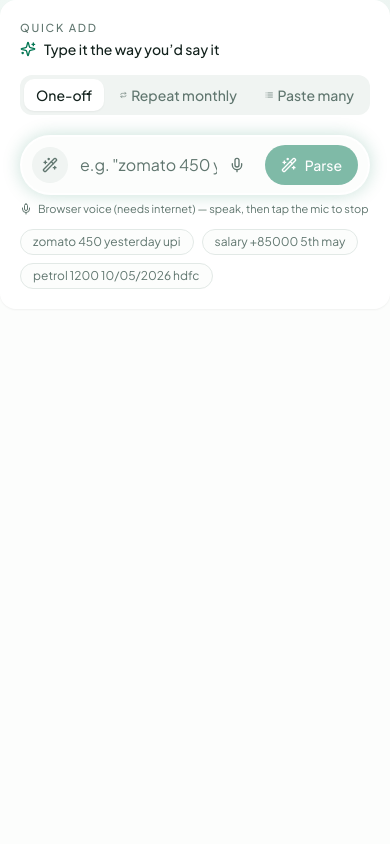
Scenario: NLInputBar Component › shows parsed draft after successful API response
Type "zomato 450" into the field with test id "nl-input".
click(166, 164); type("zomato 450")  # box [76,144,257,184]
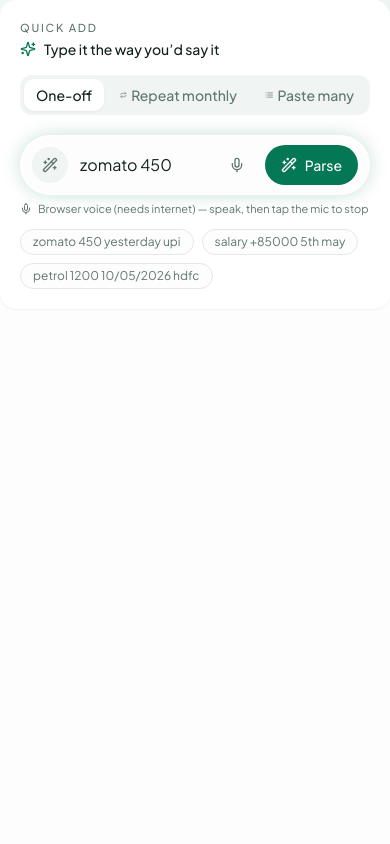
Press Enter in the field with test id "nl-input", box [76,144,257,184]
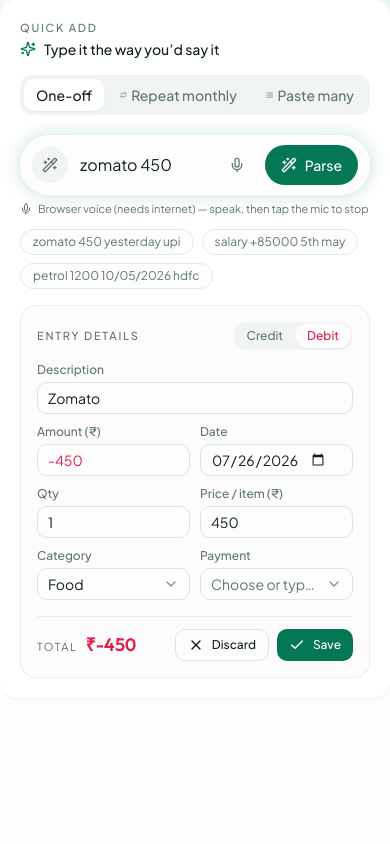
Now the field with test id "preview-description" is shown, box [37,382,353,414]
